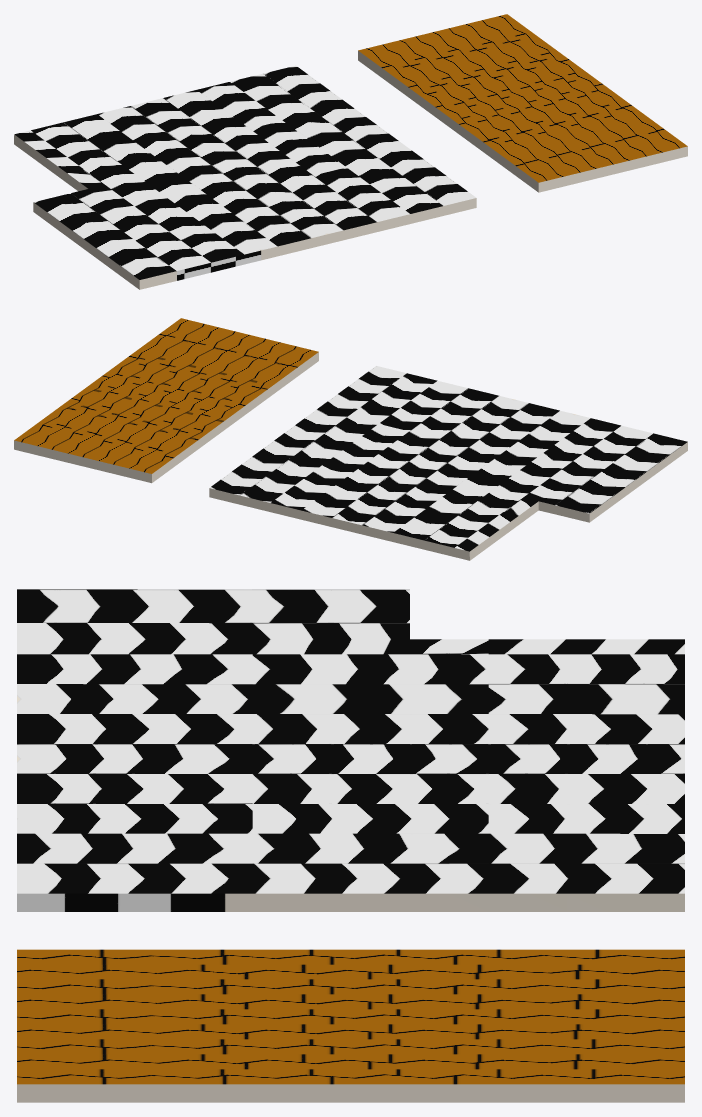
Rendered from FloorKitchennAndOffice.fbx.
The picture shows the model from 3 angles, top to bottom: view 1: azimuth 30°, elevation 25°; view 2: azimuth 150°, elevation 25°; view 3: azimuth 270°, elevation 25°; orthographic projection. The views are drawn at different scales.
Parts seen in each view (by area): view 1: WoodenFloor, OfficeFloor; view 2: WoodenFloor, OfficeFloor; view 3: WoodenFloor, OfficeFloor.
Part boxes in pixels (bbox=[...]): WoodenFloor: bbox=[14, 65, 476, 289]; OfficeFloor: bbox=[358, 14, 687, 192]; WoodenFloor: bbox=[209, 366, 687, 560]; OfficeFloor: bbox=[14, 318, 318, 483]; WoodenFloor: bbox=[17, 589, 684, 911]; OfficeFloor: bbox=[17, 949, 684, 1102].
Size of the model in its own units: 1138 by 19.69 by 650.
